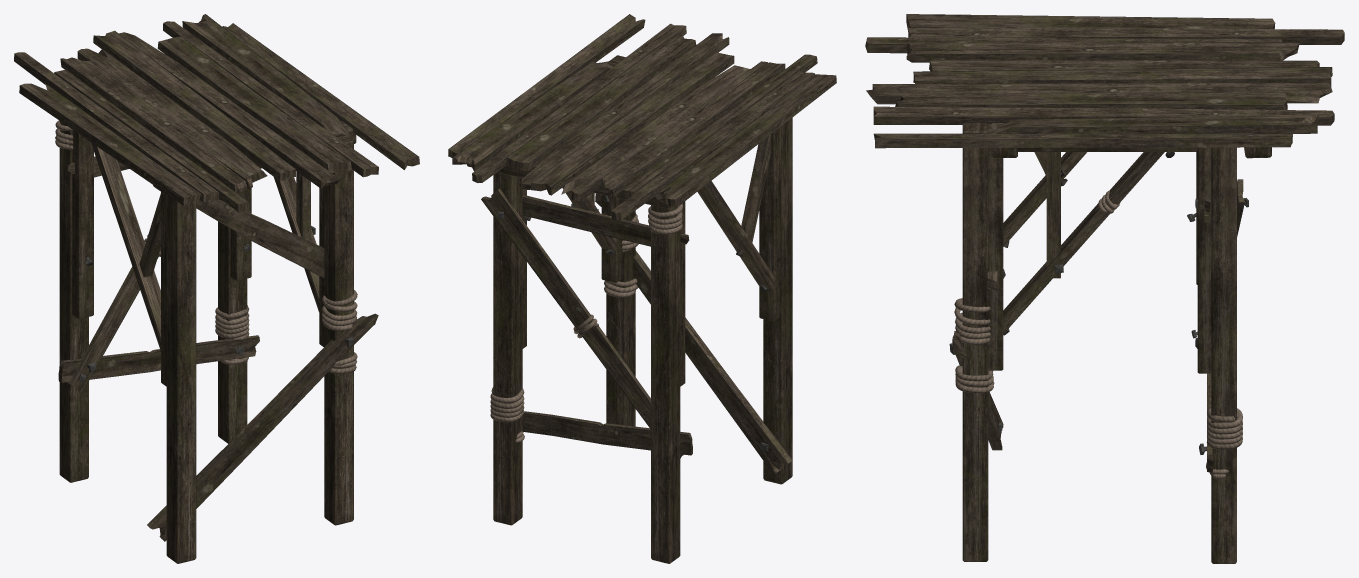
File: dock_main04.fbx
3 renders of one model, left to right at view 1: azimuth 30°, elevation 25°; view 2: azimuth 150°, elevation 25°; view 3: azimuth 270°, elevation 25°, orthographic. The views are drawn at different scales.
Parts seen in each view (by area): view 1: dock_main04; view 2: dock_main04; view 3: dock_main04.
Boxes of the visible parts, x1,y1,x2,y2 form: dock_main04: [14, 14, 419, 563]; dock_main04: [448, 14, 836, 563]; dock_main04: [865, 14, 1344, 563].
Size of the model in its own units: 440 by 731 by 718.
